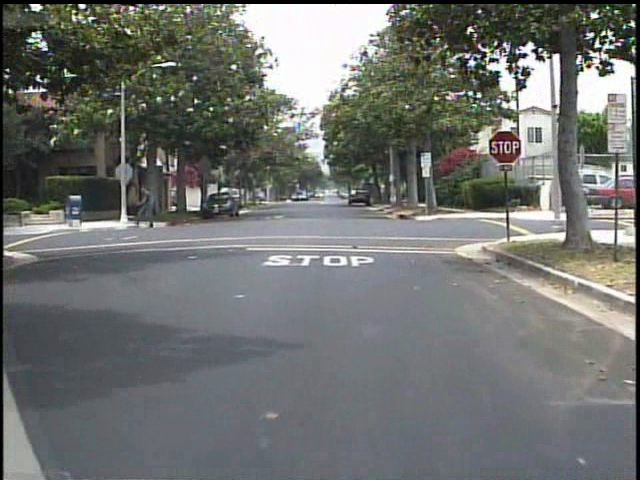person: (134, 179, 159, 233)
